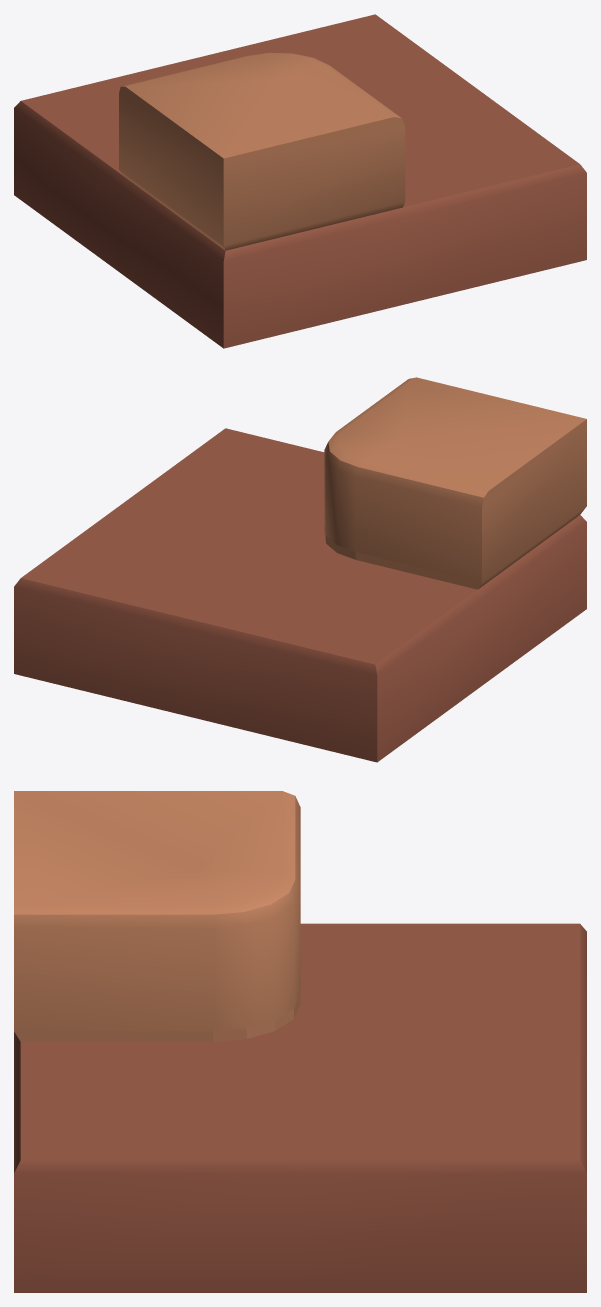
Rendered from square_rock_waterOuterCorner_empty.glb.
3 renders of one model, top to bottom at view 1: azimuth 30°, elevation 25°; view 2: azimuth 150°, elevation 25°; view 3: azimuth 270°, elevation 25°, orthographic. The views are drawn at different scales.
Visible parts, largest first — view 1: square_rock_waterOuterCorner_empty; view 2: square_rock_waterOuterCorner_empty; view 3: square_rock_waterOuterCorner_empty.
Boxes of the visible parts, box(x1,y1,x2,y2) form: square_rock_waterOuterCorner_empty: box(14, 14, 586, 348); square_rock_waterOuterCorner_empty: box(14, 377, 586, 762); square_rock_waterOuterCorner_empty: box(14, 791, 586, 1292).
Size of the model in its own units: 2 by 1 by 2.
